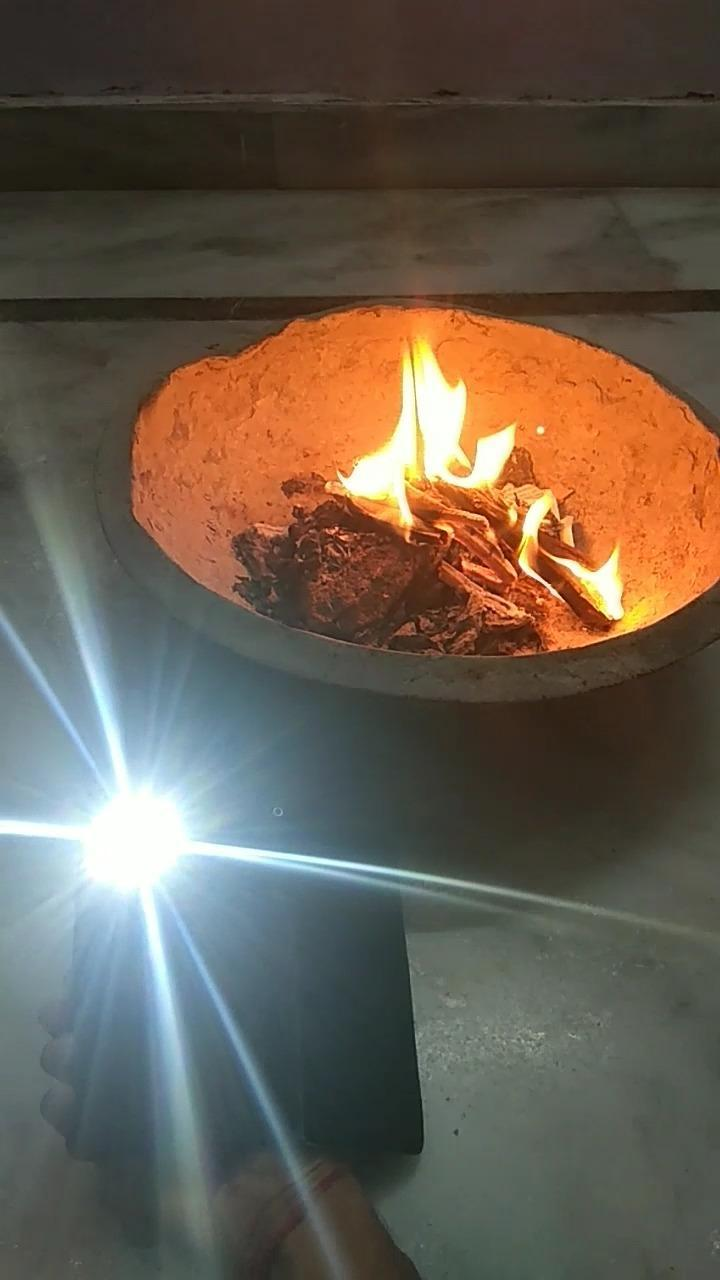fire: (323, 333, 629, 622)
